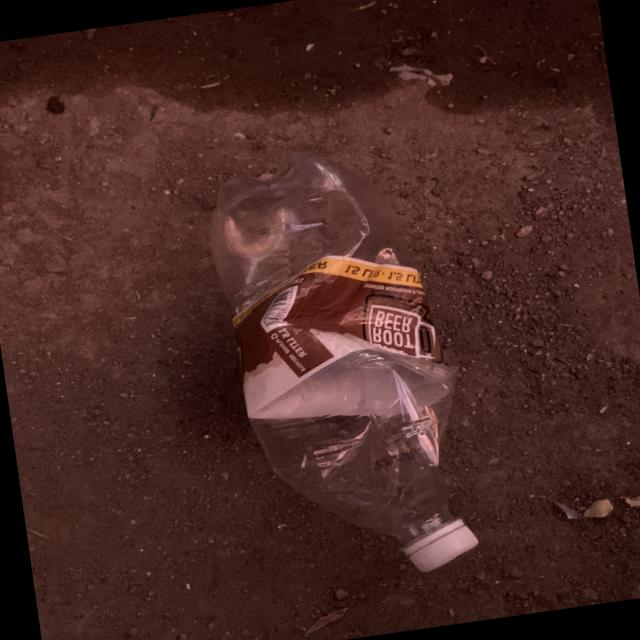Bottle: (211, 152, 478, 572)
